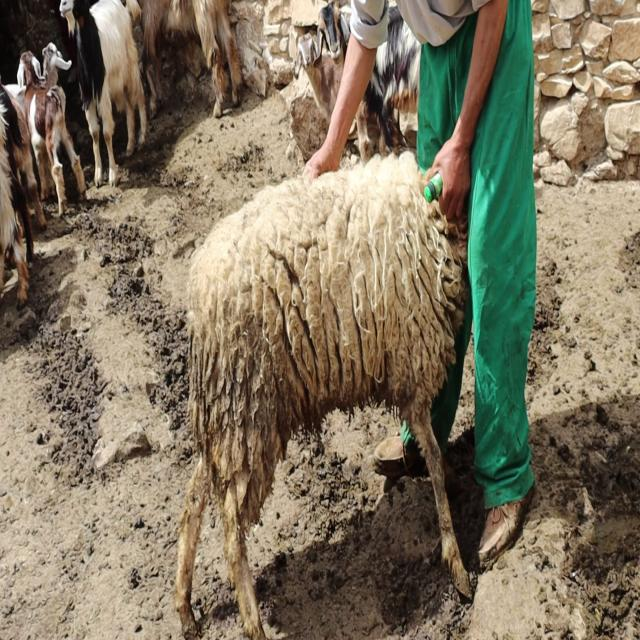Score_2: (175, 152, 470, 639)
